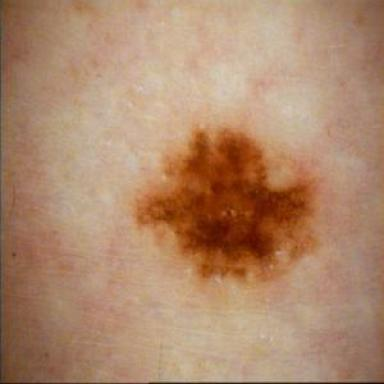Melanoma: (133, 127, 315, 279)
